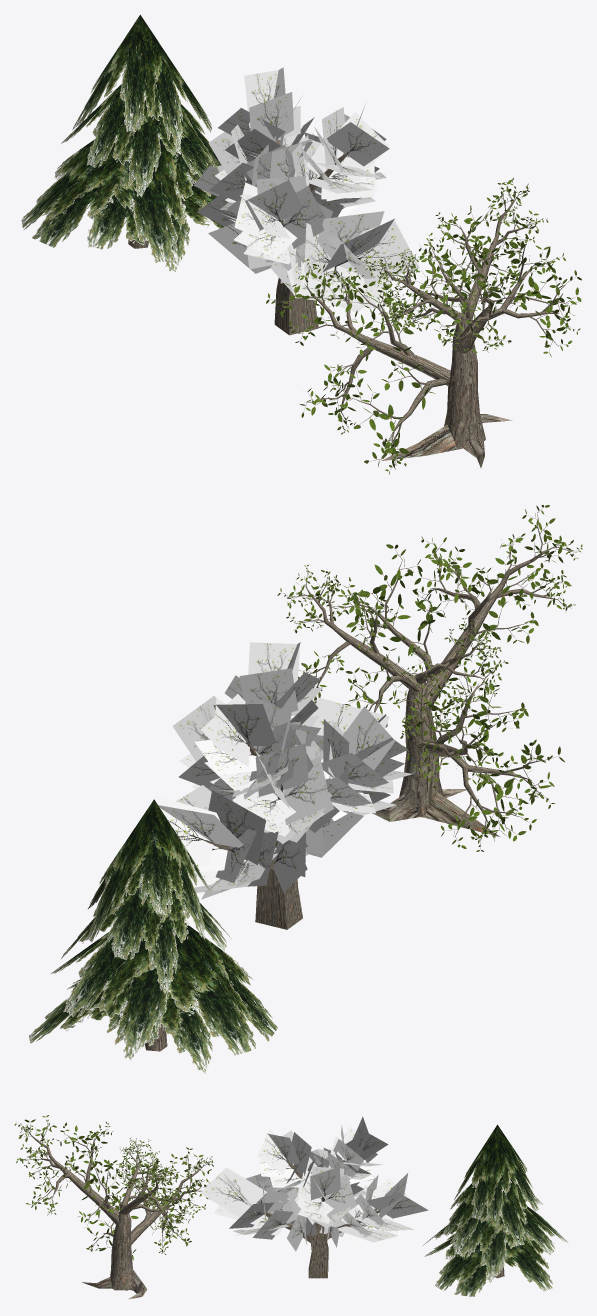
Rendered from Arboles.FBX.
The picture shows the model from 3 angles, top to bottom: view 1: azimuth 30°, elevation 25°; view 2: azimuth 150°, elevation 25°; view 3: azimuth 270°, elevation 25°; orthographic projection. The views are drawn at different scales.
Visible parts, largest first — view 1: Box001, Cylinder001, Cylinder002; view 2: Box001, Cylinder001, Cylinder002; view 3: Box001, Cylinder001, Cylinder002.
Boxes of the visible parts, x1,y1,x2,y2 form: Box001: [193, 67, 419, 335]; Cylinder001: [21, 14, 224, 272]; Cylinder002: [266, 178, 581, 474]; Box001: [156, 642, 412, 929]; Cylinder001: [29, 799, 277, 1073]; Cylinder002: [277, 505, 582, 851]; Box001: [200, 1116, 428, 1278]; Cylinder001: [423, 1124, 568, 1296]; Cylinder002: [14, 1115, 213, 1299].
Bounding box in the file's own units: 97.45 × 93.5 × 292.
4 materials, 4 textured.
